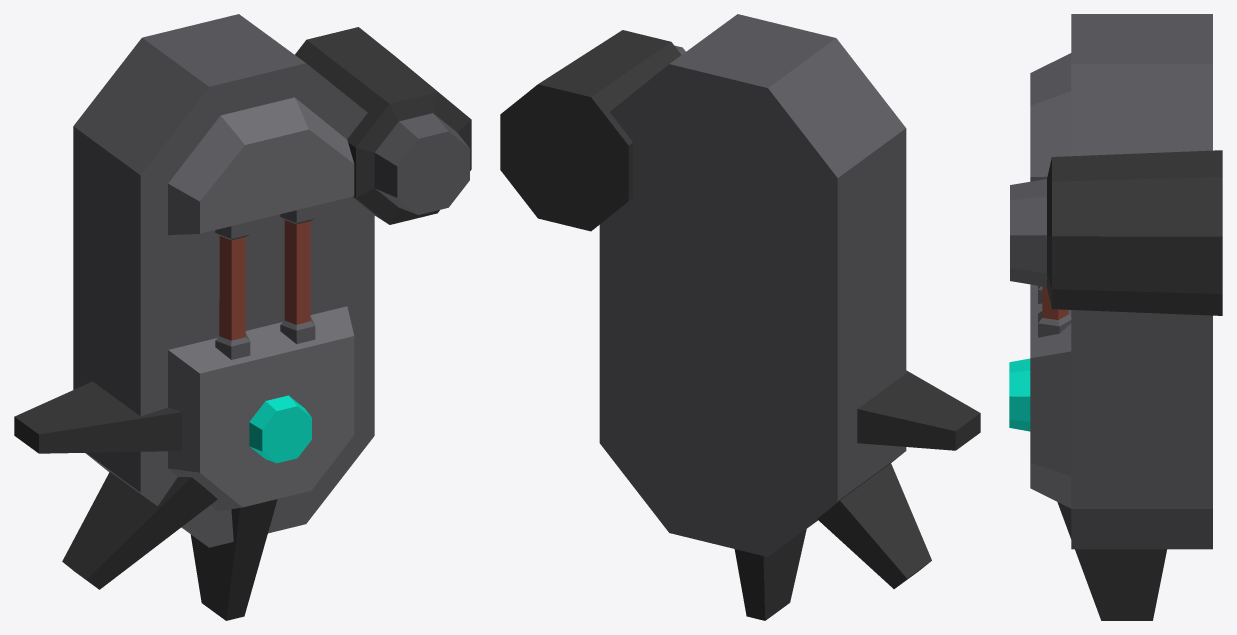
File: SM_Prop_Detail_Box_01.glb
The picture shows the model from 3 angles, left to right: view 1: azimuth 30°, elevation 25°; view 2: azimuth 150°, elevation 25°; view 3: azimuth 270°, elevation 25°; orthographic projection. The views are drawn at different scales.
Parts seen in each view (by area): view 1: SM_Prop_Detail_Box_01; view 2: SM_Prop_Detail_Box_01; view 3: SM_Prop_Detail_Box_01.
Part boxes in pixels (x1,y1,x2,y2): SM_Prop_Detail_Box_01: [14, 14, 471, 620]; SM_Prop_Detail_Box_01: [500, 14, 980, 620]; SM_Prop_Detail_Box_01: [1009, 14, 1222, 620].
Size of the model in its own units: 0.5146 by 0.6552 by 0.2181.
Materials: 1 (1 with a texture image).
